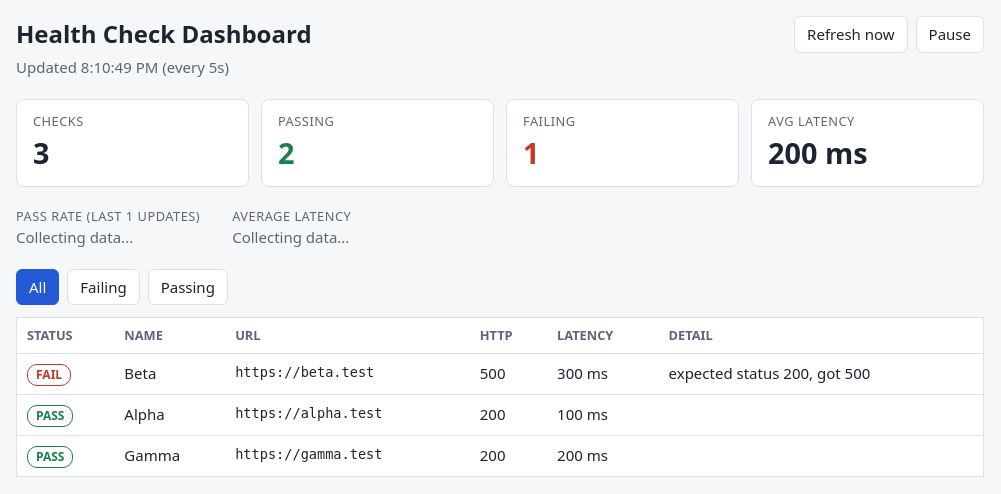
Test: App › filters to failing checks
This screenshot has width=1001, height=494.
Expected: the text "Alpha" is shown, [114,395,225,436]
Click the button "Failing". click: {"x": 103, "y": 287}
box: [67,269,140,305]
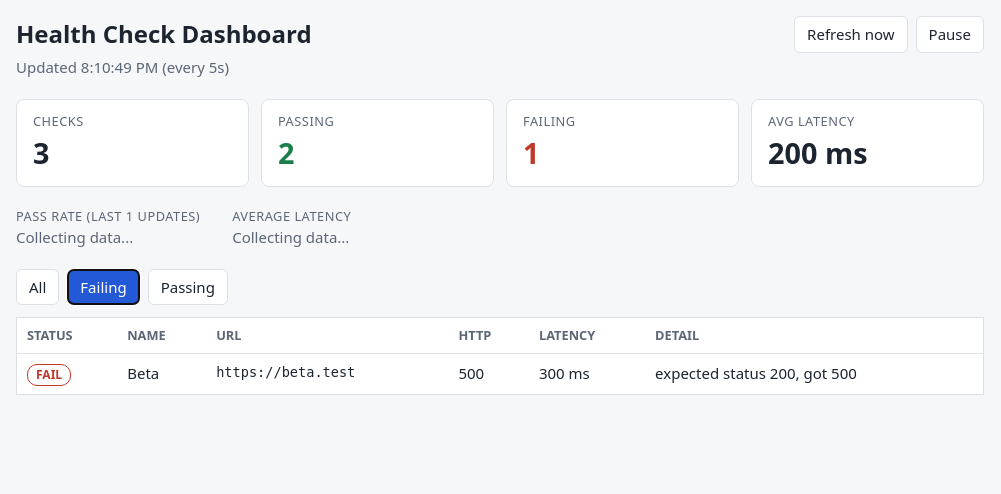
Expected: the text "Beta" is shown, [117,354,206,395]
Now the text "Alpha" is gone
